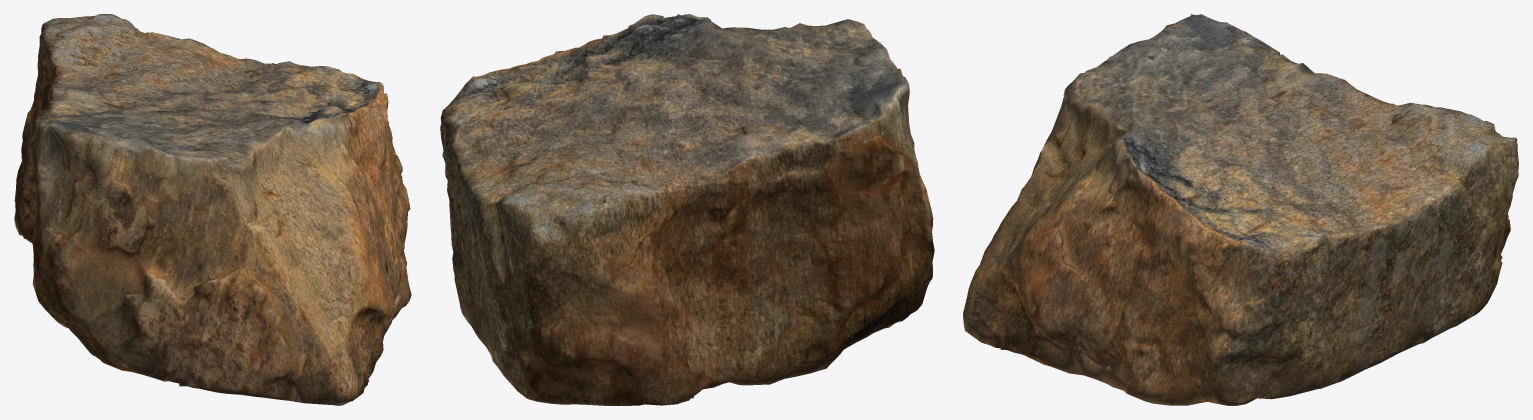
The model's file is rock-boulder-block.glb.
3 renders of one model, left to right at view 1: azimuth 30°, elevation 25°; view 2: azimuth 150°, elevation 25°; view 3: azimuth 270°, elevation 25°, orthographic. The views are drawn at different scales.
Visible parts, largest first — view 1: boulder_03_LOD0; view 2: boulder_03_LOD0; view 3: boulder_03_LOD0.
Part boxes in pixels (bbox=[...]): boulder_03_LOD0: bbox=[14, 14, 411, 405]; boulder_03_LOD0: bbox=[440, 14, 934, 405]; boulder_03_LOD0: bbox=[963, 14, 1518, 405].
Bounding box in the file's own units: 2.4 × 1.47 × 3.06.
Materials: 1 (1 with a texture image).
